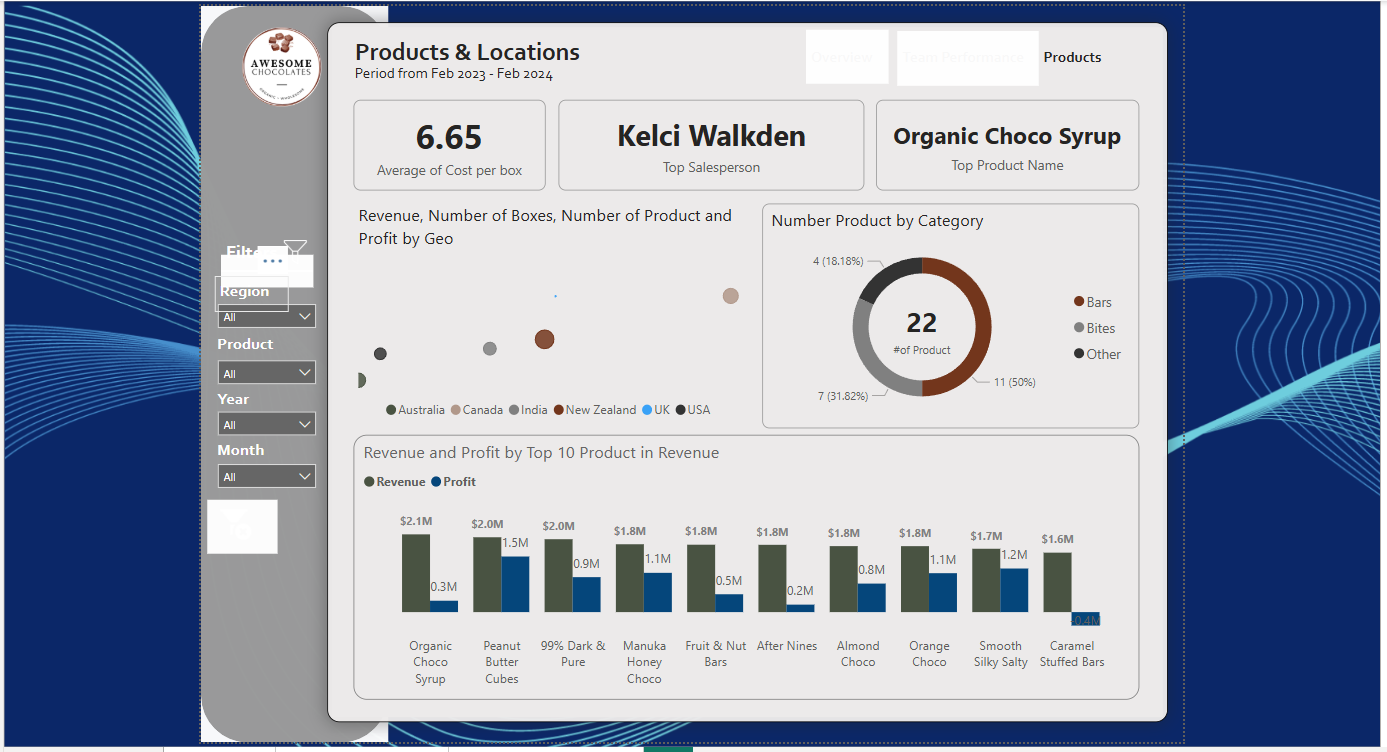

This screenshot's page, from the dashboard's own definition file:
{"tool":"powerbi","page":{"name":"Products & Locations","canvas":[960,720],"ordinal":2},"visuals":[{"type":"shape","box":[0,0,183,720.6],"z":0},{"type":"shape","box":[123.1,16.2,822.6,684.9],"z":1000},{"type":"image","box":[35.6,16.2,87.4,87.4],"z":2000},{"type":"textbox","box":[19.4,223.5,72.9,35.6],"z":3000},{"type":"image","box":[74.5,215.4,35.6,51.8],"z":4000},{"type":"shape","box":[19.4,242.9,90.7,32.4],"z":5000},{"type":"slicer","fields":{"Values":["locations.Region"]},"box":[6.5,281.7,116.6,51.8],"z":6000},{"type":"slicer","fields":{"Values":["products.Product"]},"box":[6.5,336.8,116.6,50.2],"z":7000},{"type":"slicer","fields":{"Values":["calendar.Date.Variation.Date Hierarchy.Year"]},"box":[6.5,387,116.6,50.2],"z":8000},{"type":"textbox","box":[11.3,369.2,72.9,35.6],"z":9000},{"type":"textbox","box":[11.3,315.7,72.9,35.6],"z":10000},{"type":"textbox","box":[13,263.9,72.9,35.6],"z":11000},{"type":"textbox","box":[145.5,24.5,260.5,51.4],"z":12000},{"type":"textbox","box":[145.7,51.8,242.9,51.8],"z":13000},{"type":"slicer","fields":{"Values":["calendar.Date.Variation.Date Hierarchy.Month"]},"box":[6.5,437.2,116.6,51.8],"z":14000},{"type":"textbox","box":[11.3,419.4,72.9,35.6],"z":15000},{"type":"image","box":[8.6,483,47.7,44],"z":16000},{"type":"actionButton","box":[6.1,483,68.5,52.6],"z":17000},{"type":"textbox","box":[591.9,35.5,80.7,33],"z":18000},{"type":"textbox","box":[681.1,35.5,138.2,33],"z":19000},{"type":"actionButton","box":[591.9,23.2,80.7,52.6],"z":20000},{"type":"textbox","box":[819.3,35.5,80.7,33],"z":21000},{"type":"scatterChart","title":"Revenue, Number of Boxes, Number of Product and Profit by Geo","fields":{"Series":["locations.Geo"],"Y":["shipments.Boxes"],"Size":["calendar.Revenue"],"X":["shipments.Product"]},"box":[149,193,385,220],"z":22000},{"type":"donutChart","title":"Number Product by Category","fields":{"Category":["products.Category"],"Y":["shipments.Product"]},"box":[548.9,192.7,369.2,220.2],"z":23000},{"type":"clusteredColumnChart","title":"Revenue and Profit by Top 10 Product in Revenue","fields":{"Category":["products.Product"],"Y":["calendar.Revenue","calendar.Profit"]},"box":[149,419.4,769.1,259.1],"z":24000},{"type":"card","fields":{"Values":["products.Cost per box"]},"box":[149,92.3,187.8,89.1],"z":25000},{"type":"card","fields":{"Values":["Comparsions.Top Salesperson"]},"box":[349.8,92.3,299.6,89.1],"z":26000},{"type":"card","fields":{"Values":["Comparsions.Top Product Name"]},"box":[660.6,92.3,257.5,89.1],"z":27000},{"type":"card","fields":{"Values":["shipments.Product"]},"box":[656,281,100,71],"z":28000},{"type":"actionButton","box":[681.7,25,138.3,53.3],"z":29000}]}

Visuals, with their boxes on the page's 960x720 design canvas (x1, y1, x2, y2). These are canvas units, not pixel positions in the 1387x752 screenshot, which may show the page scaled, cropped or inside an application window:
shape: (left=0, top=0, right=183, bottom=721)
shape: (left=123, top=16, right=946, bottom=701)
image: (left=36, top=16, right=123, bottom=104)
textbox: (left=19, top=224, right=92, bottom=259)
image: (left=74, top=215, right=110, bottom=267)
shape: (left=19, top=243, right=110, bottom=275)
slicer - locations.Region: (left=6, top=282, right=123, bottom=334)
slicer - products.Product: (left=6, top=337, right=123, bottom=387)
slicer - calendar.Date.Variation.Date Hierarchy.Year: (left=6, top=387, right=123, bottom=437)
textbox: (left=11, top=369, right=84, bottom=405)
textbox: (left=11, top=316, right=84, bottom=351)
textbox: (left=13, top=264, right=86, bottom=300)
textbox: (left=146, top=24, right=406, bottom=76)
textbox: (left=146, top=52, right=389, bottom=104)
slicer - calendar.Date.Variation.Date Hierarchy.Month: (left=6, top=437, right=123, bottom=489)
textbox: (left=11, top=419, right=84, bottom=455)
image: (left=9, top=483, right=56, bottom=527)
actionButton: (left=6, top=483, right=75, bottom=536)
textbox: (left=592, top=36, right=673, bottom=68)
textbox: (left=681, top=36, right=819, bottom=68)
actionButton: (left=592, top=23, right=673, bottom=76)
textbox: (left=819, top=36, right=900, bottom=68)
"Revenue, Number of Boxes, Number of Product and Profit by Geo" scatterChart: (left=149, top=193, right=534, bottom=413)
"Number Product by Category" donutChart: (left=549, top=193, right=918, bottom=413)
"Revenue and Profit by Top 10 Product in Revenue" clusteredColumnChart: (left=149, top=419, right=918, bottom=678)
card - products.Cost per box: (left=149, top=92, right=337, bottom=181)
card - Comparsions.Top Salesperson: (left=350, top=92, right=649, bottom=181)
card - Comparsions.Top Product Name: (left=661, top=92, right=918, bottom=181)
card - shipments.Product: (left=656, top=281, right=756, bottom=352)
actionButton: (left=682, top=25, right=820, bottom=78)
